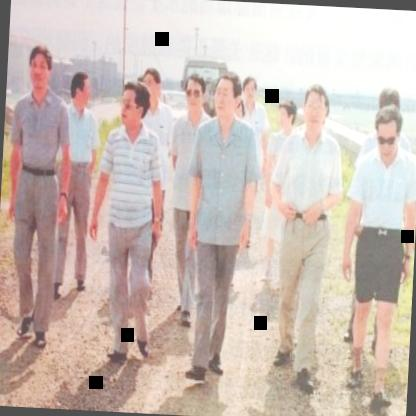head: (368, 90, 406, 162), (23, 38, 56, 99), (210, 68, 242, 125), (300, 79, 332, 135), (118, 78, 150, 134), (179, 64, 208, 120), (139, 60, 164, 109), (68, 66, 94, 112), (274, 96, 298, 137), (240, 68, 261, 108)
